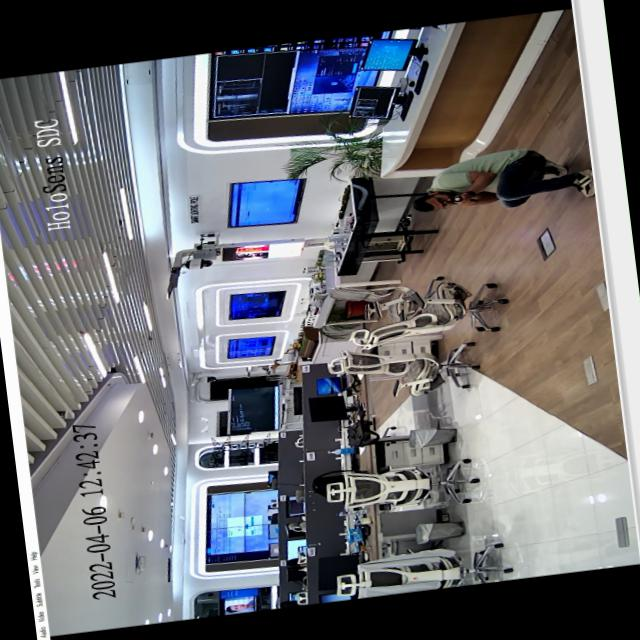long weapon: (443, 190, 482, 207)
